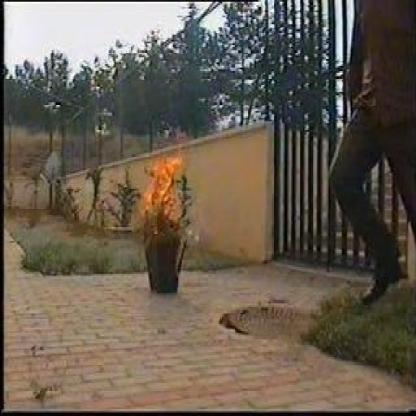foggia-v2-map80-epoch100 - v1 4323: (145, 156, 177, 208)
